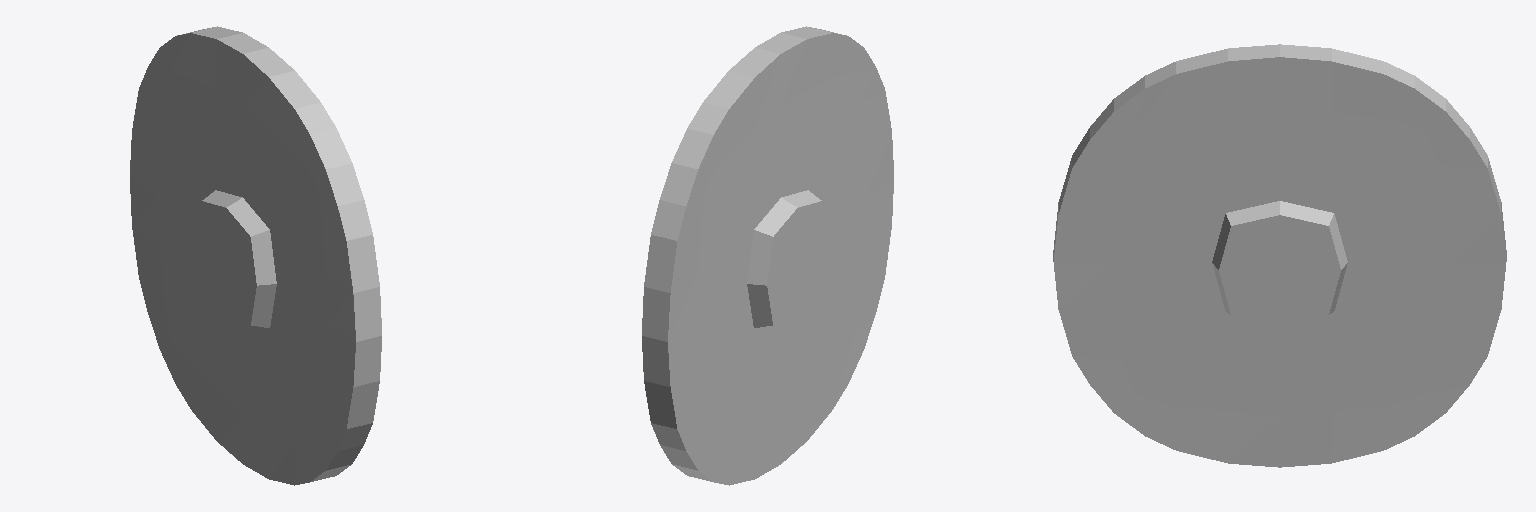
The model's file is wheel.obj.
The picture shows the model from 3 angles: view 1: azimuth 30°, elevation 25°; view 2: azimuth 150°, elevation 25°; view 3: azimuth 270°, elevation 25°; orthographic projection.
Parts seen in each view (by area): view 1: Cube.007_Cube.009; view 2: Cube.007_Cube.009; view 3: Cube.007_Cube.009.
Part boxes in pixels (bbox=[...]): Cube.007_Cube.009: bbox=[130, 26, 381, 485]; Cube.007_Cube.009: bbox=[642, 26, 893, 485]; Cube.007_Cube.009: bbox=[1053, 44, 1506, 467].
Bounding box in the file's own units: 1.3 × 8.62 × 8.62.